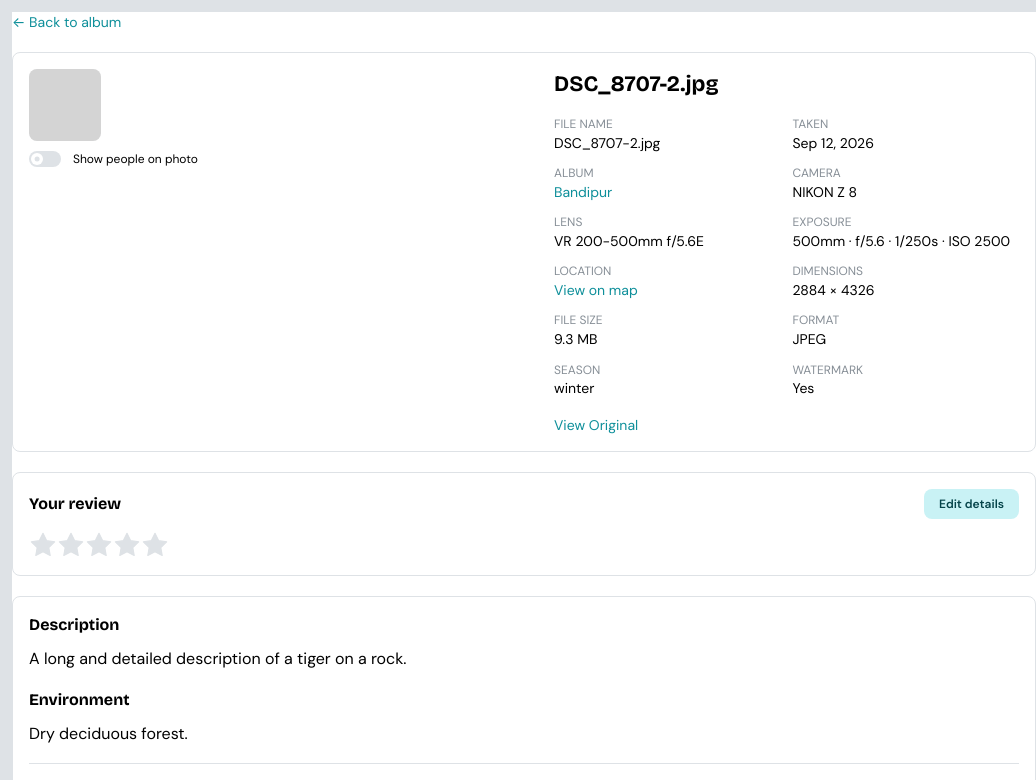
Test case: PhotoDetail › draws face boxes on the main photo only after the toggle is switched on
This screenshot has width=1036, height=780.
Step 1. Click the switch labelled "Show people on photo" → {"x": 113, "y": 159}, box x1=29 y1=151 x2=198 y2=167
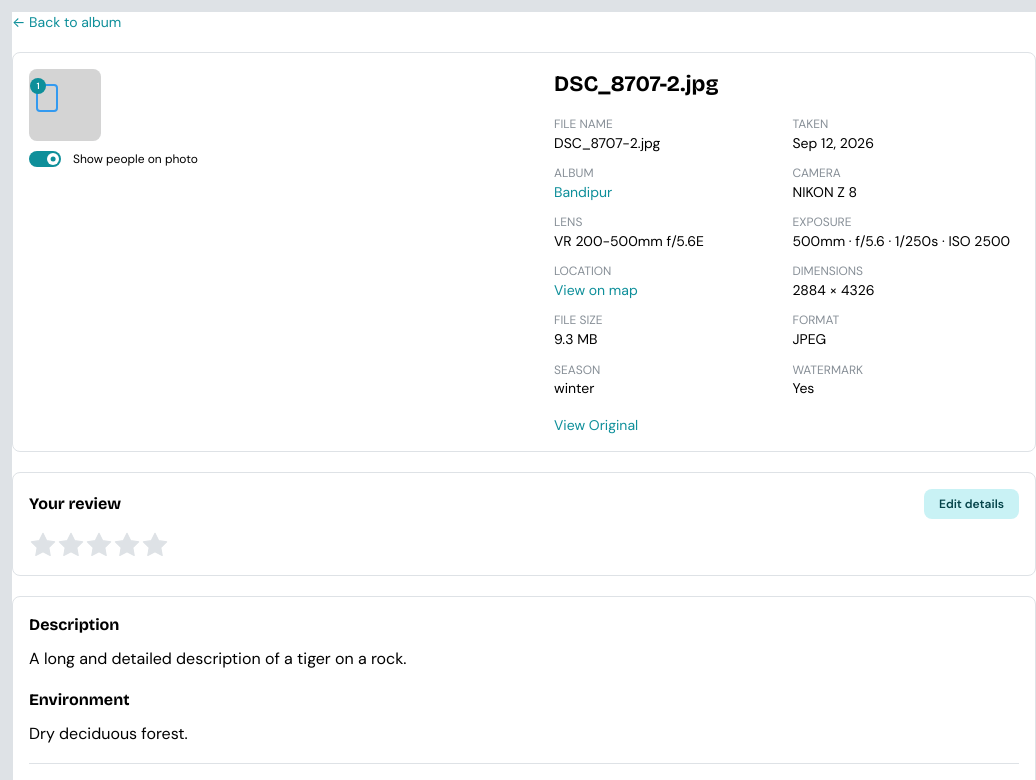
Expected: the number of elements with test id "face-box" is 1, x1=36 y1=84 x2=58 y2=112
